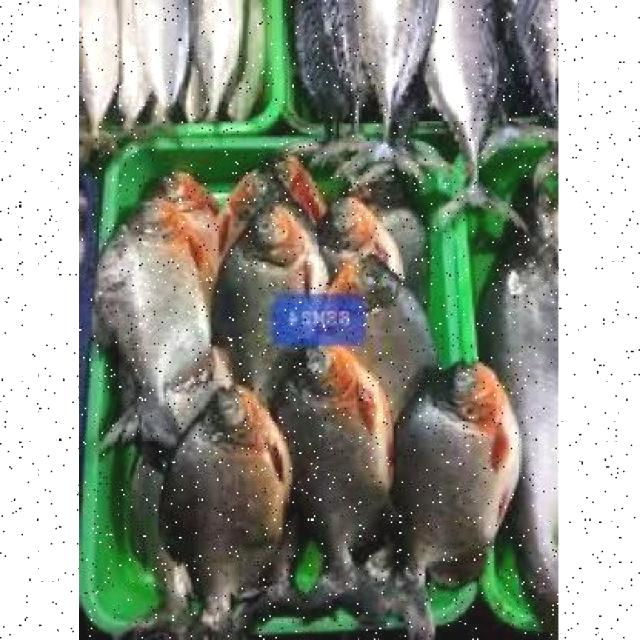ikan-pacu: (396, 358, 522, 608), (92, 194, 206, 452), (182, 386, 290, 626), (290, 343, 390, 599), (226, 210, 331, 393)
